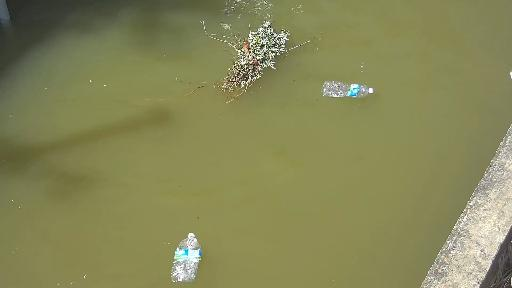plastic: (161, 222, 218, 288), (310, 75, 386, 106)
twig: (190, 18, 291, 104)
